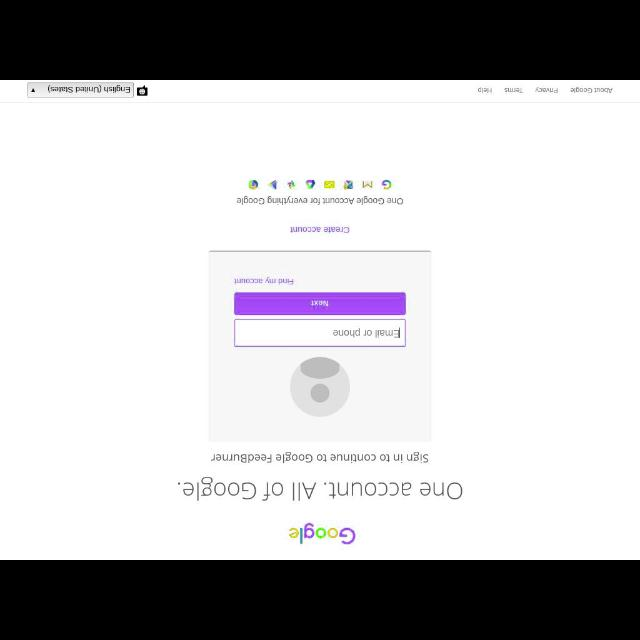icon: (136, 85, 148, 96), (31, 88, 35, 92)
image: (289, 354, 353, 418), (288, 520, 358, 548), (266, 180, 278, 190), (247, 179, 259, 189), (382, 179, 392, 189), (343, 180, 353, 190), (361, 181, 373, 189), (286, 181, 296, 189), (324, 182, 336, 188), (306, 180, 314, 188)
input: (234, 318, 406, 348)
multitab: (476, 86, 614, 94)
panel: (206, 250, 434, 444)
spinner: (26, 81, 134, 97)
text: (176, 477, 464, 501), (210, 452, 430, 464), (236, 193, 406, 205), (332, 326, 401, 339), (47, 85, 131, 94), (290, 225, 350, 235), (233, 277, 295, 285), (570, 85, 612, 93), (310, 298, 330, 308), (534, 85, 558, 93), (504, 87, 524, 93), (478, 86, 492, 94)
textbutton: (233, 290, 407, 316)
